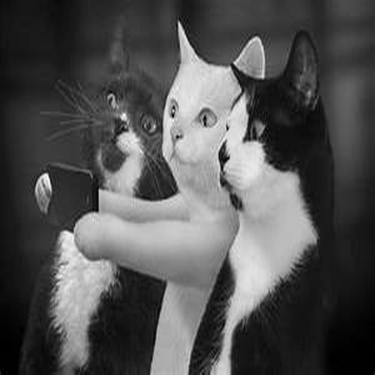cat: (27, 18, 265, 370), (6, 21, 174, 372), (215, 27, 341, 366)
